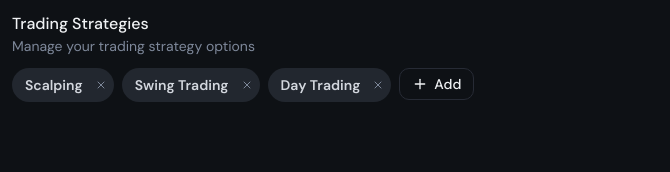
Test: DropdownOptionsManager › shows input field when "Add" button is clicked
Click the button "Add" at coordinates (437, 84), box x1=399 y1=68 x2=474 y2=100
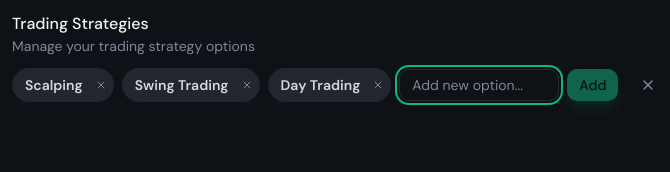
Expected: the field with placeholder "Add new option..." is shown, x1=399 y1=69 x2=559 y2=101
